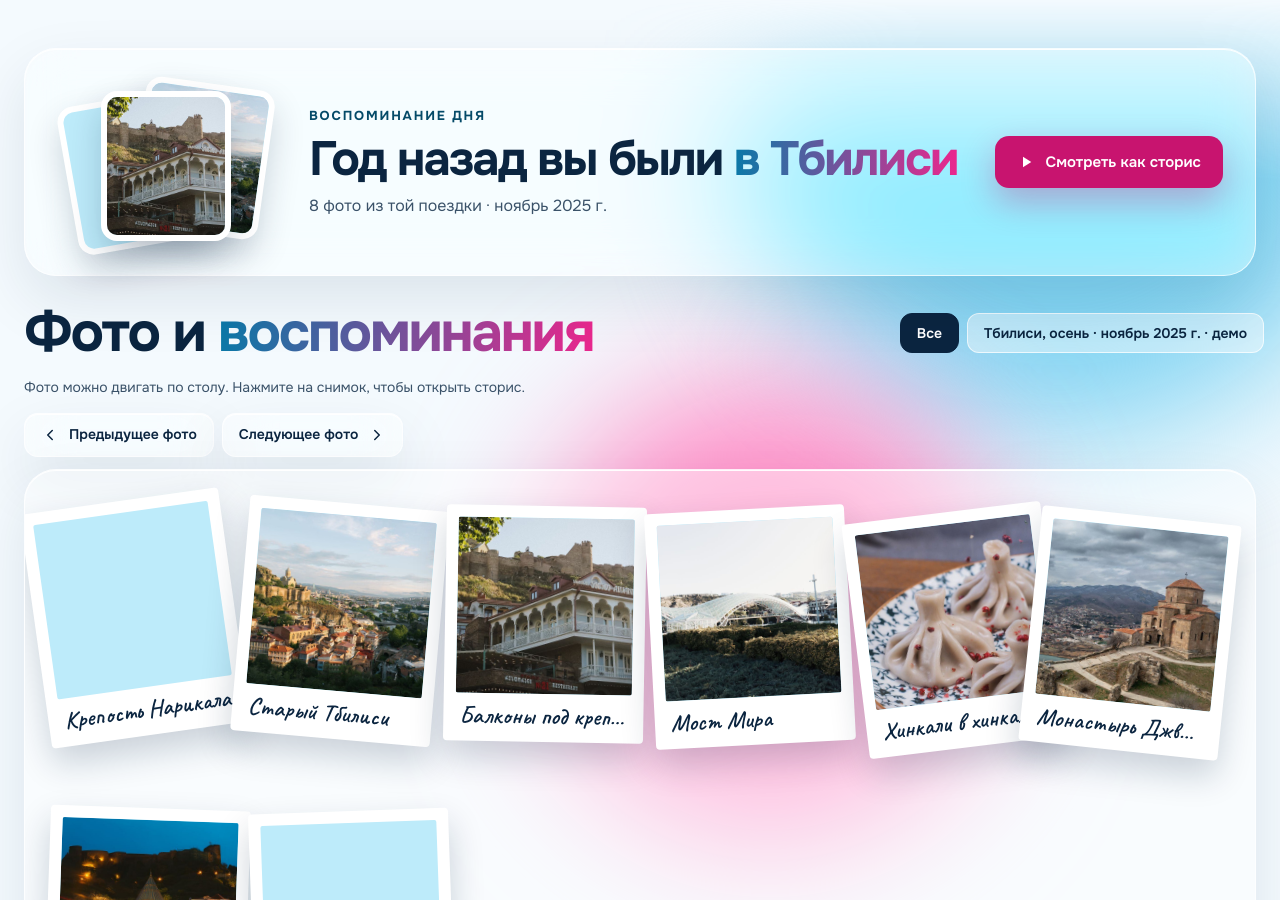
Test: Journal › lays polaroids on the table and opens a story from one
Click the button with aria-label "Открыть сторис": x=545, y=624 top-left (445, 506), bottom-right (645, 742)
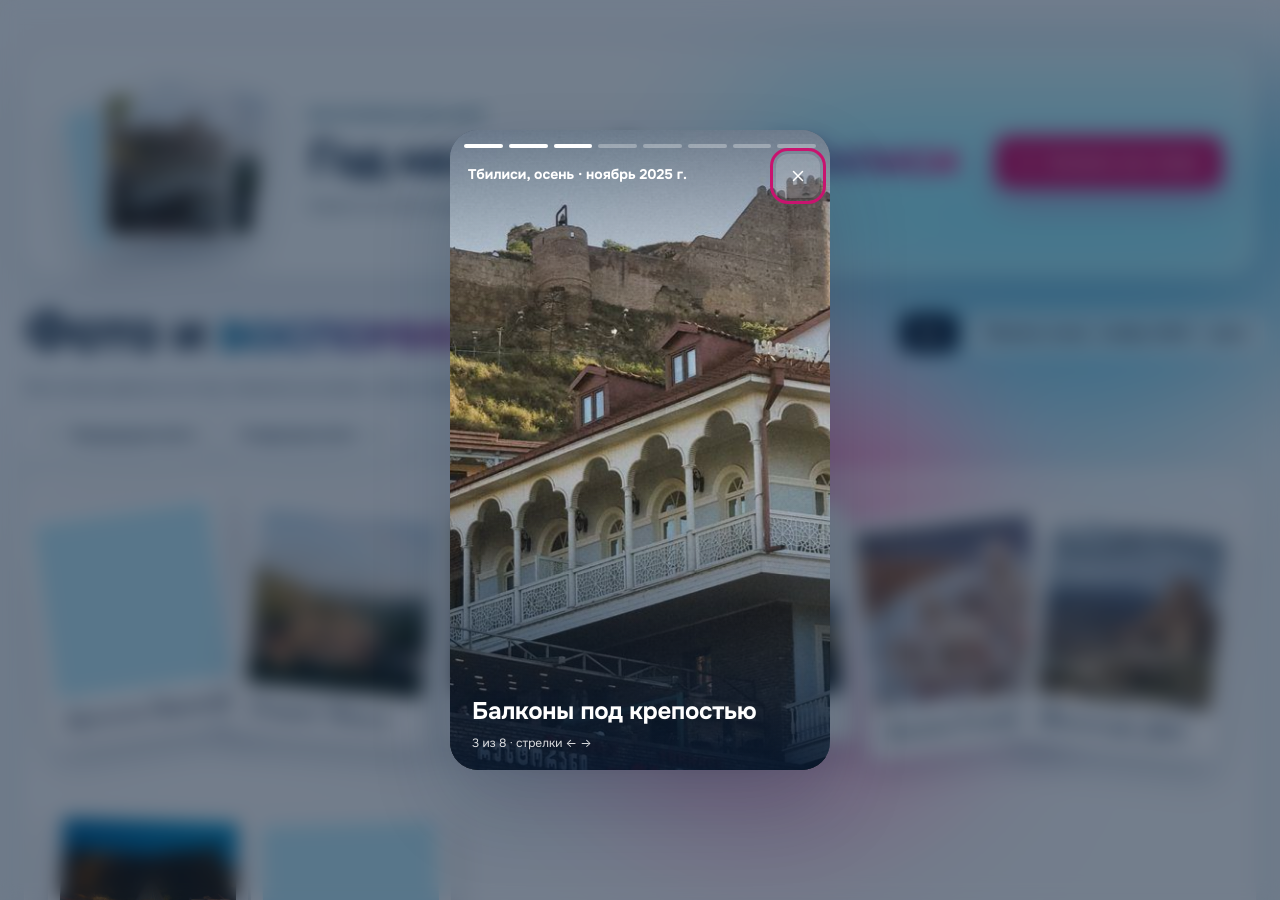
Expected: the dialog is shown
Expected: the text "3 из 8 · стрелки ← →" is shown, top-left (472, 734), bottom-right (592, 752)
